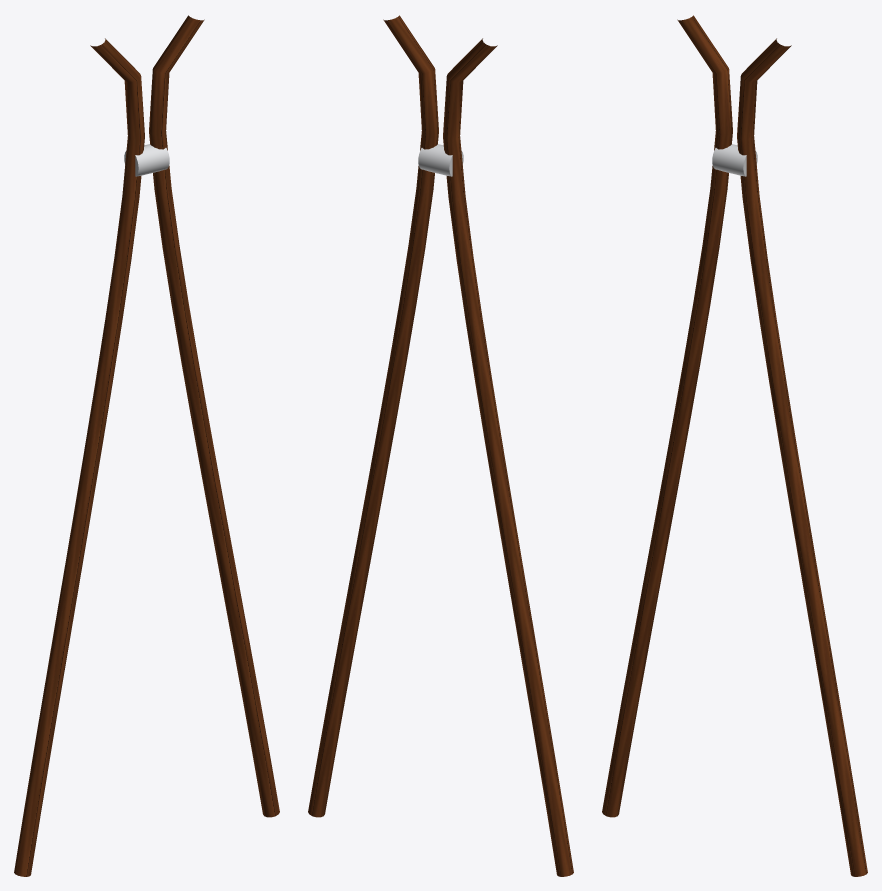
The model's file is fps-weapon-set-and-firing-range-shooting-stick-fef64d2f__19513.glb.
3 views of the same model, side by side, from view 1: azimuth 30°, elevation 25°; view 2: azimuth 150°, elevation 25°; view 3: azimuth 330°, elevation 25° (orthographic).
Visible parts, largest first — view 1: shooting-stick; view 2: shooting-stick; view 3: shooting-stick.
Boxes of the visible parts, x1,y1,x2,y2 form: shooting-stick: [14, 15, 279, 876]; shooting-stick: [308, 15, 573, 876]; shooting-stick: [602, 15, 867, 876].
Bounding box in the file's own units: 0.4237 × 1.26 × 0.04.
Materials: 2 (1 with a texture image).
